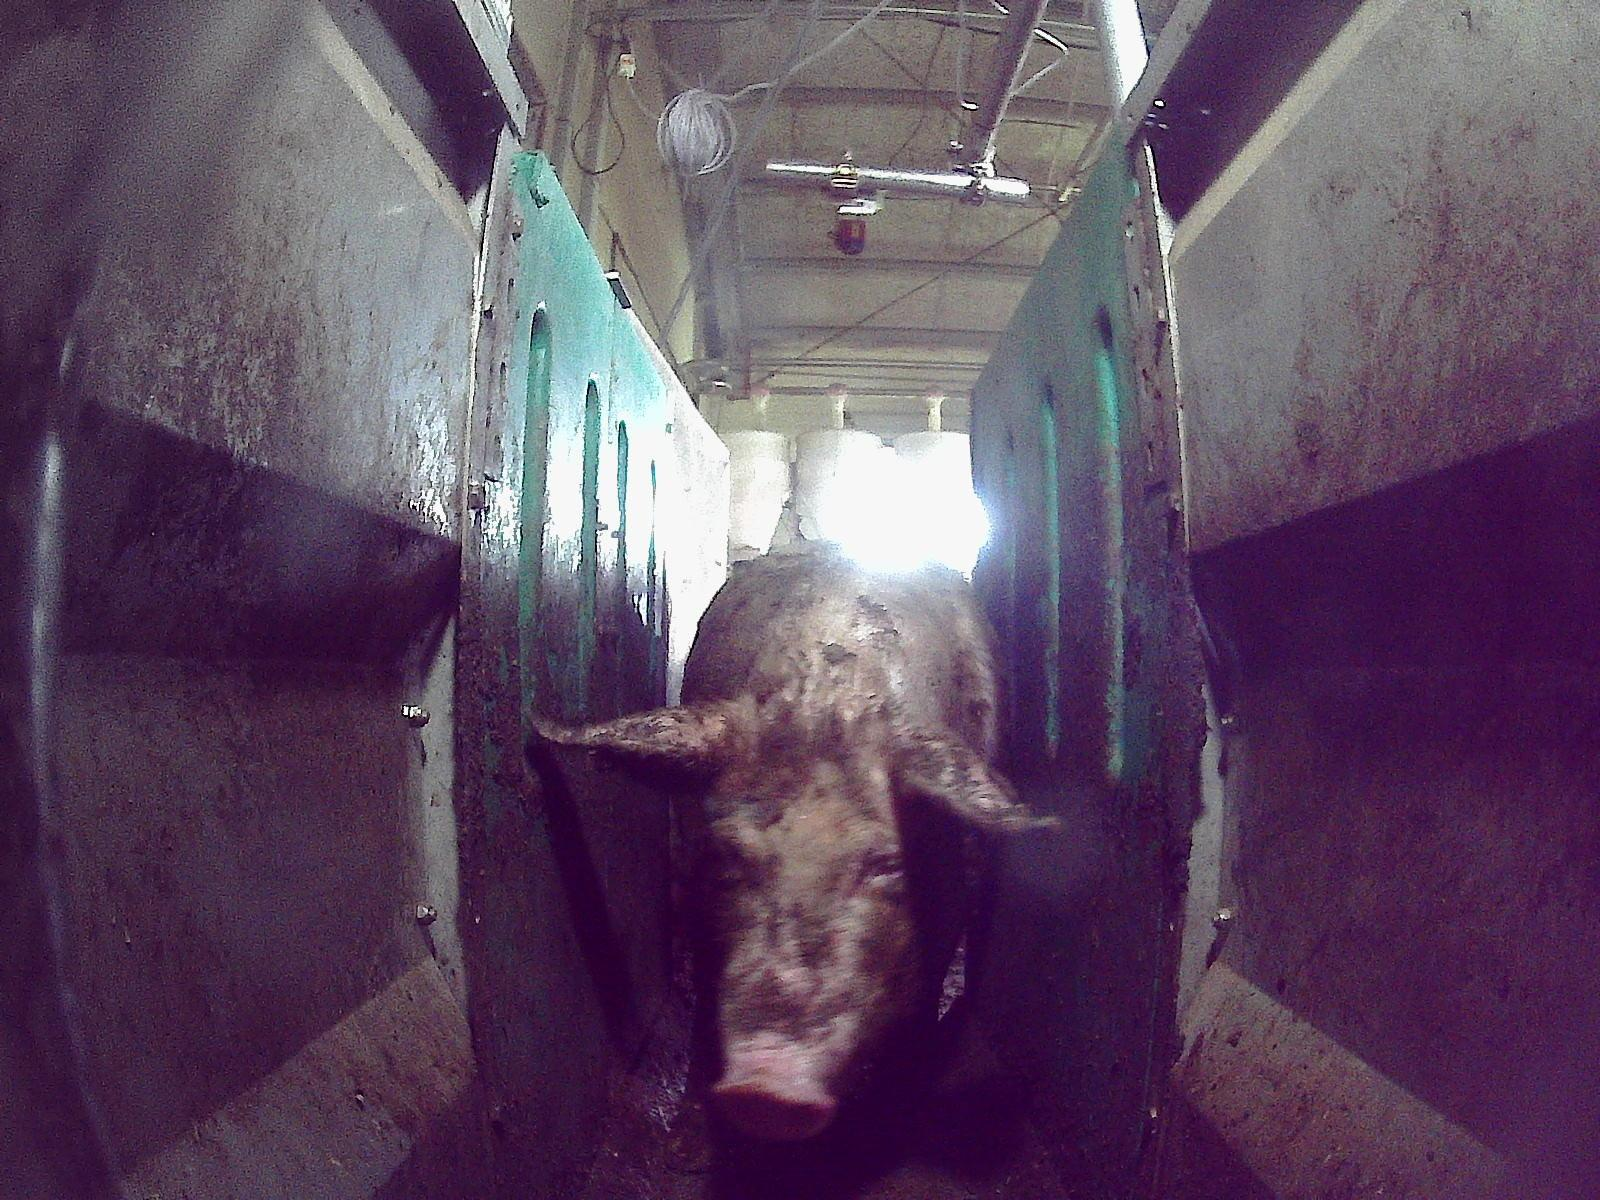Face: (696, 708, 925, 1141)
